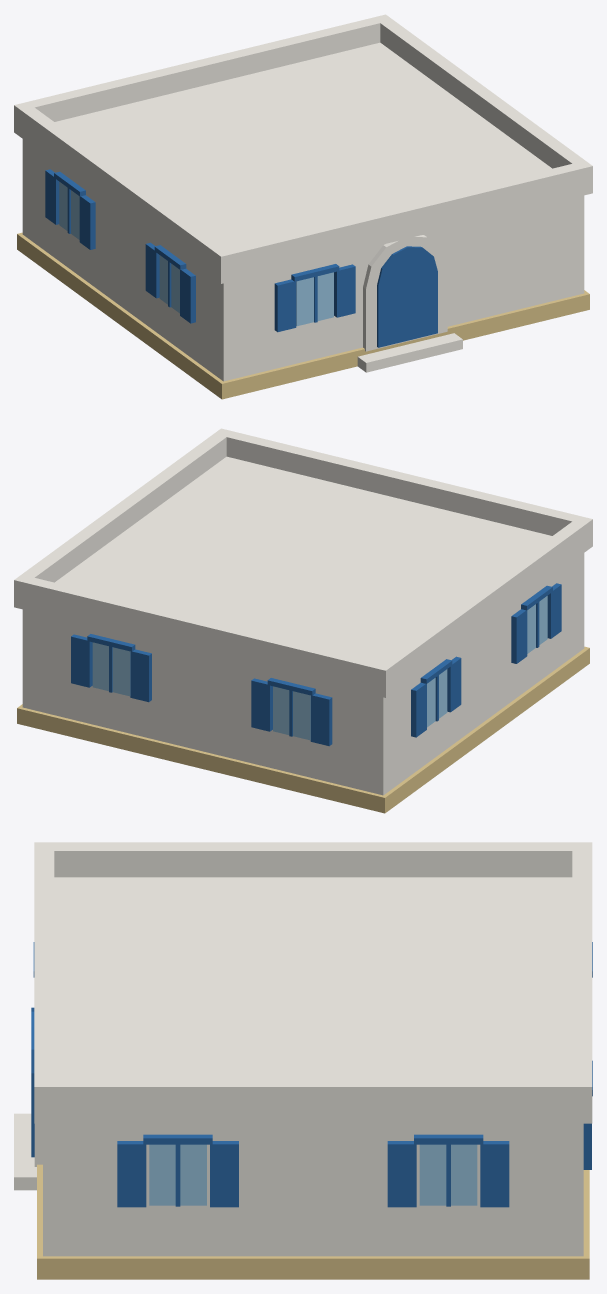
Rendered from house-1x1-1f-aegean-a.glb.
3 views of the same model, one above another, from view 1: azimuth 30°, elevation 25°; view 2: azimuth 150°, elevation 25°; view 3: azimuth 270°, elevation 25° (orthographic). The views are drawn at different scales.
Parts seen in each view (by area): view 1: house-1x1-1f-aegean-a; view 2: house-1x1-1f-aegean-a; view 3: house-1x1-1f-aegean-a.
Part boxes in pixels (x1=…): house-1x1-1f-aegean-a: x1=14, y1=14, x2=592, y2=399; house-1x1-1f-aegean-a: x1=14, y1=428, x2=592, y2=813; house-1x1-1f-aegean-a: x1=14, y1=842, x2=592, y2=1279.
Bounding box in the file's own units: 1 × 0.37 × 1.
1 material, 1 textured.
